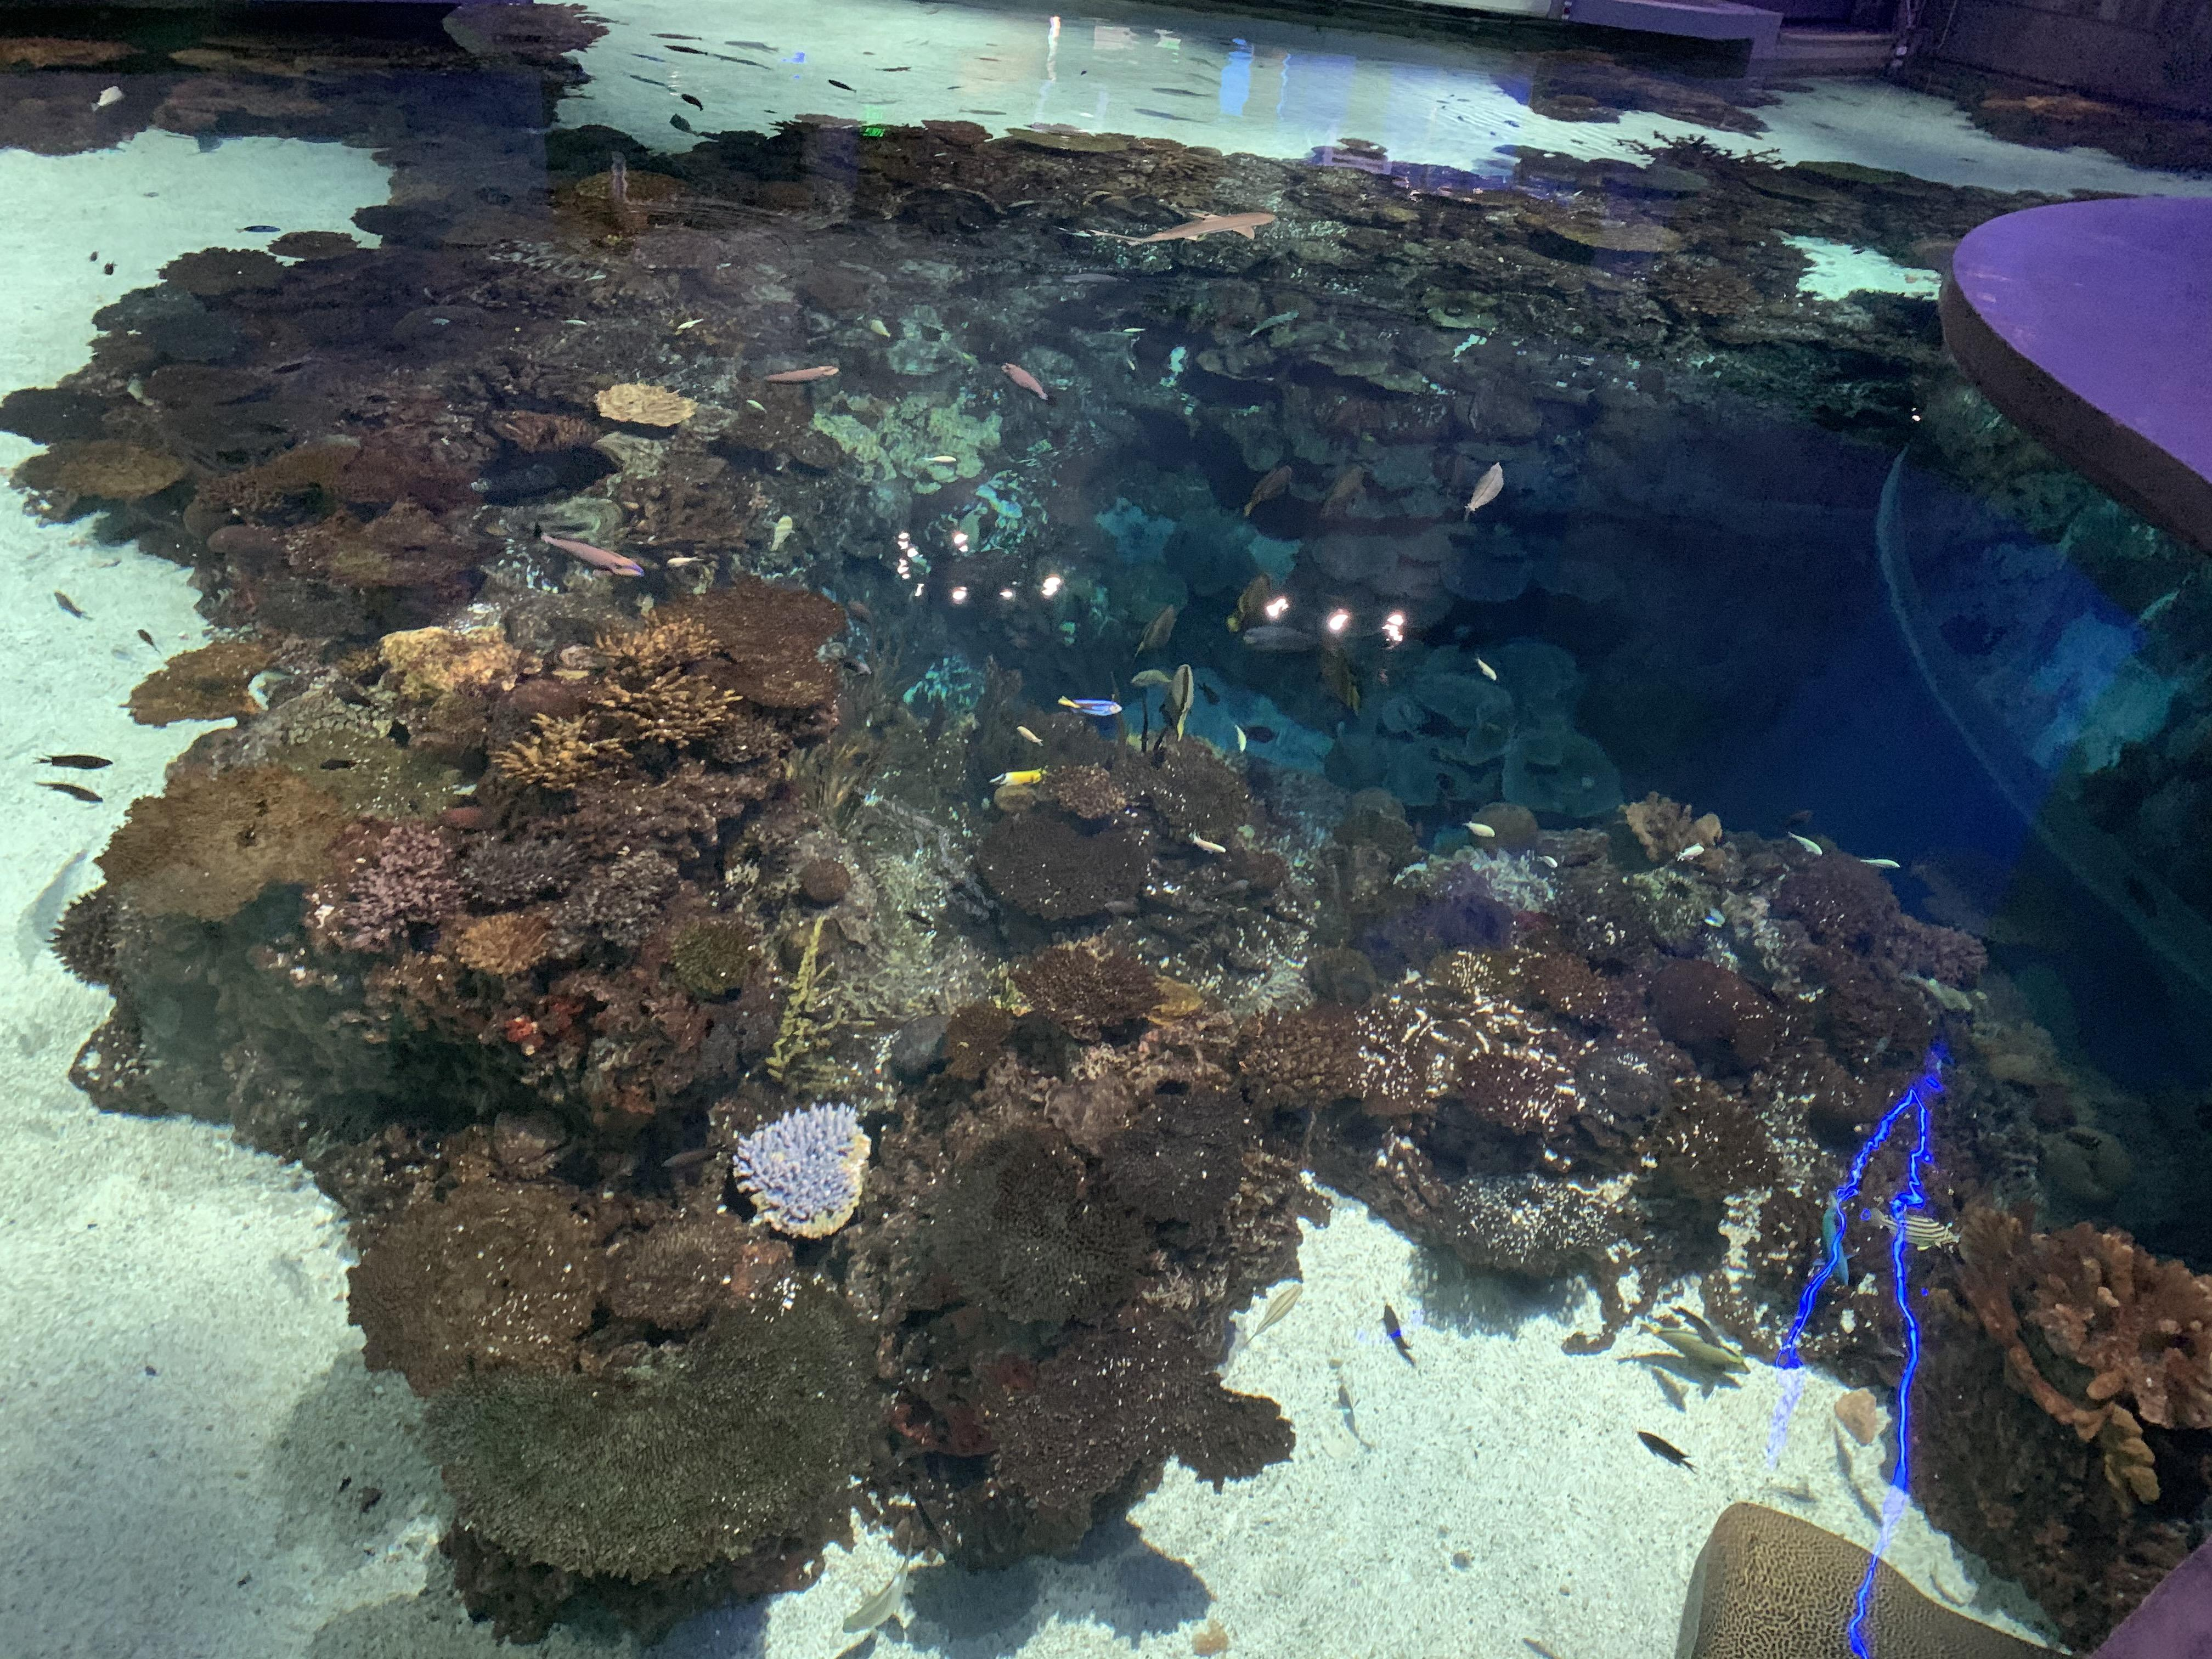fish: (533, 525, 650, 584), (1641, 1328, 1750, 1382), (1244, 1276, 1310, 1345), (1233, 460, 1306, 519), (1874, 1208, 1966, 1253), (1317, 458, 1372, 528), (1634, 1422, 1703, 1476), (1460, 450, 1512, 521), (1905, 965, 1979, 1016), (1822, 1190, 1862, 1281), (998, 354, 1054, 406), (1378, 1298, 1418, 1368), (1165, 660, 1200, 739), (35, 742, 115, 775), (758, 361, 846, 390), (1320, 647, 1362, 709), (1134, 599, 1179, 653), (1057, 688, 1125, 723), (1332, 1382, 1369, 1446), (33, 779, 111, 809), (1832, 1420, 1860, 1490), (1237, 570, 1275, 620), (989, 762, 1052, 791), (1778, 826, 1829, 863), (772, 509, 806, 561), (1773, 1480, 1831, 1511), (1674, 1307, 1723, 1344), (1853, 847, 1907, 877), (1850, 1485, 1886, 1527), (51, 589, 92, 626), (1184, 828, 1231, 857), (1129, 664, 1174, 694), (1460, 814, 1501, 845), (1674, 836, 1712, 870), (134, 626, 167, 659), (1012, 721, 1047, 748), (667, 551, 705, 573), (676, 312, 709, 338), (1474, 657, 1503, 685), (1533, 850, 1566, 873), (873, 315, 900, 342), (925, 450, 961, 469), (1231, 721, 1251, 756), (744, 396, 766, 411)
shark: (1125, 207, 1271, 251)
